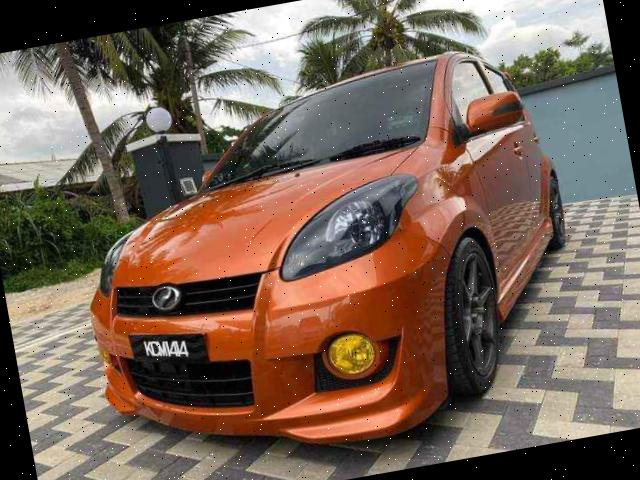License_Plate: (131, 328, 200, 372)
car: (49, 31, 603, 480)
